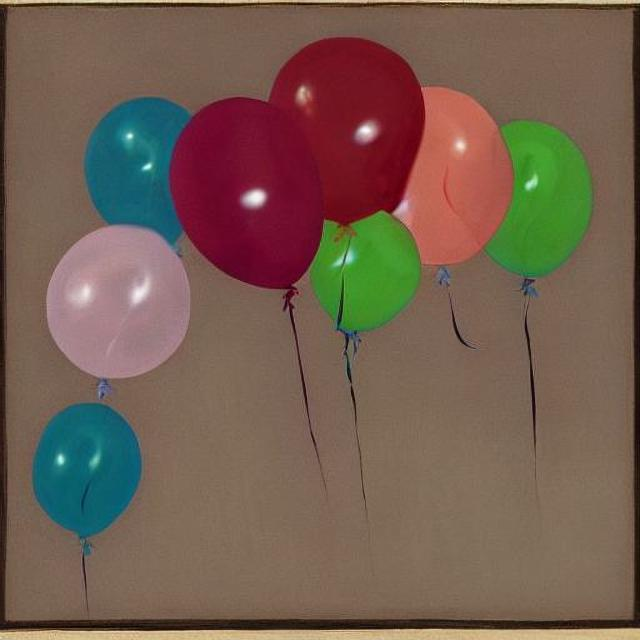balloon: (56, 38, 442, 454), (33, 209, 179, 544), (430, 113, 592, 282), (26, 392, 144, 548)
